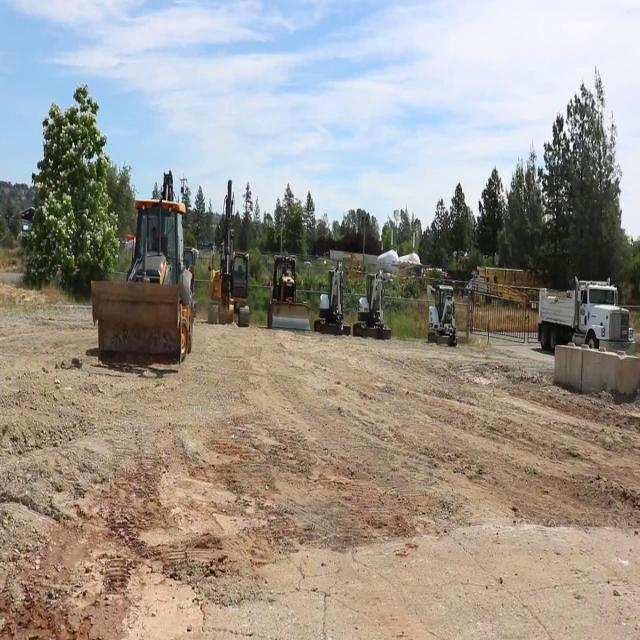Dump Truck: (534, 274, 632, 354)
Excavator: (208, 180, 252, 326), (354, 268, 390, 336), (316, 262, 348, 334), (427, 278, 457, 343)
Loader: (266, 252, 312, 330)
